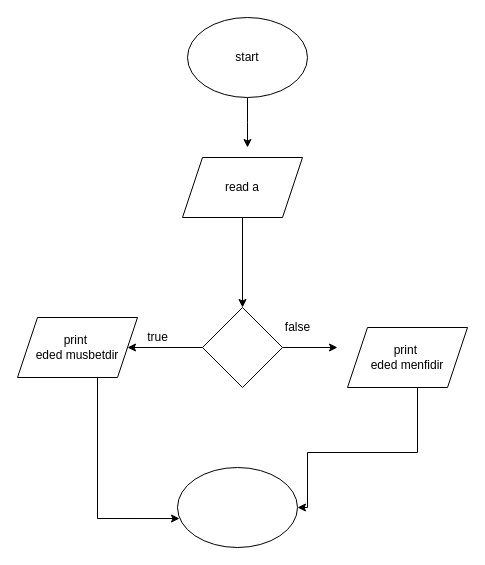
Some shapes in this 485 by 565 pixel diagram are drawn without their labels. Here are the shapes that lost their labels. From the top down, the centre of each, then its label:
At pixel 242 347: "a>0".
At pixel 237 507: "end".
